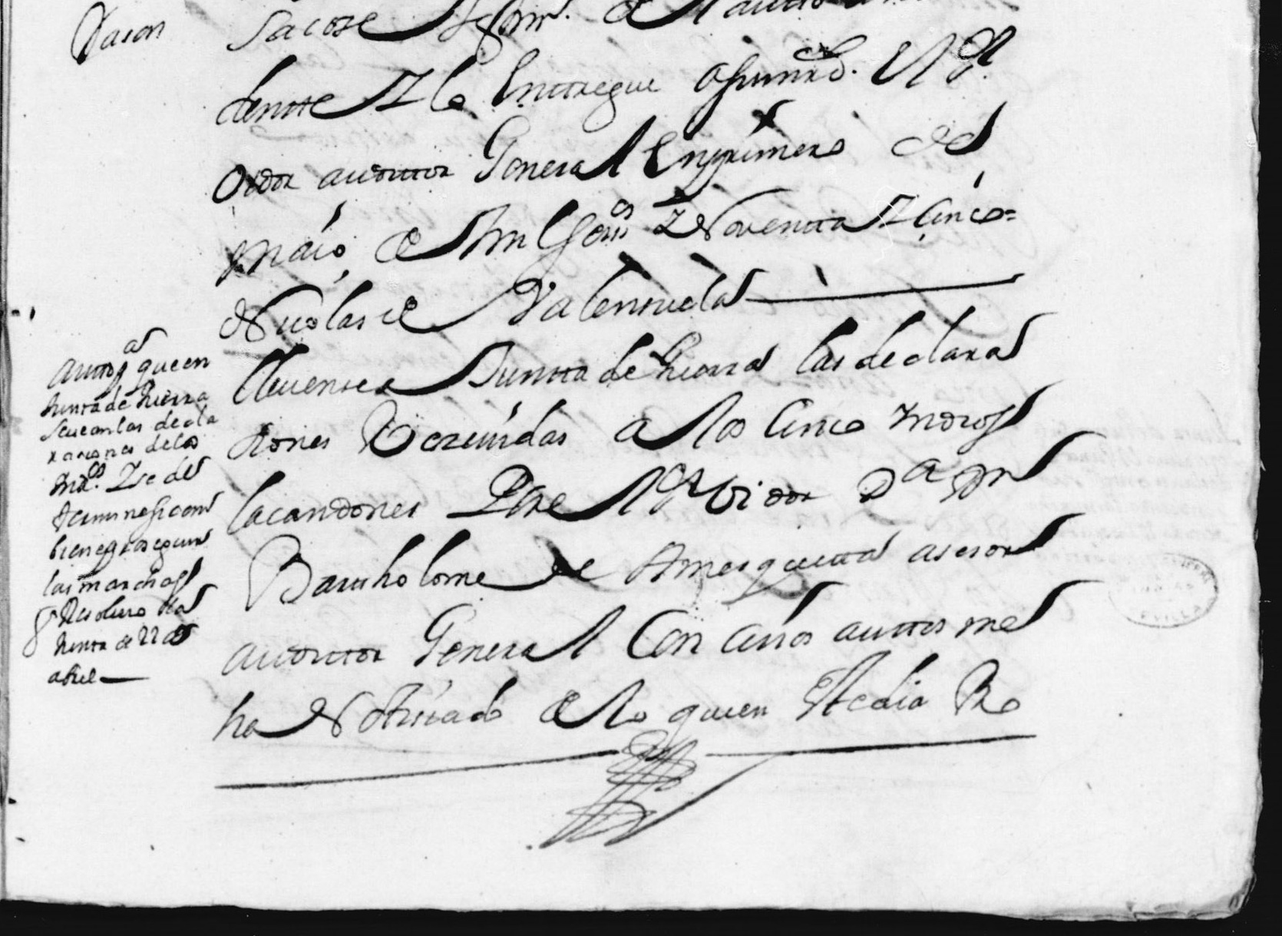lacandon: (226, 470, 420, 534)
